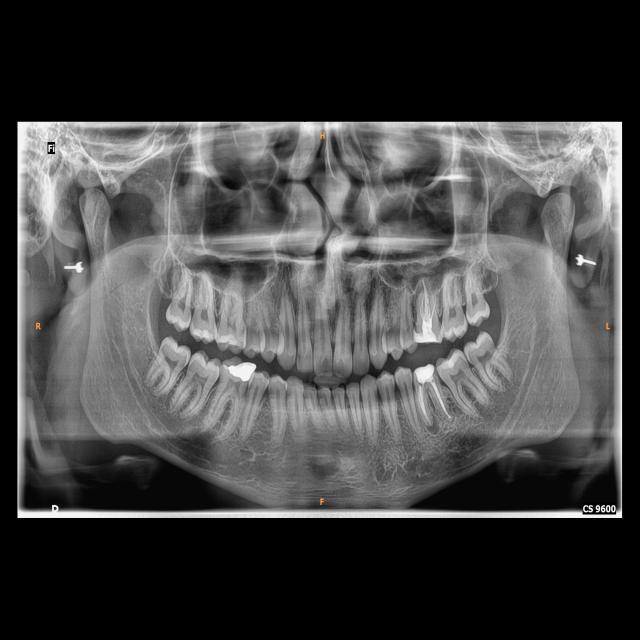dolgu: (226, 360, 257, 385), (413, 324, 441, 346), (413, 365, 440, 384)
kanal-tedavisi: (418, 385, 453, 426), (416, 274, 442, 326)
